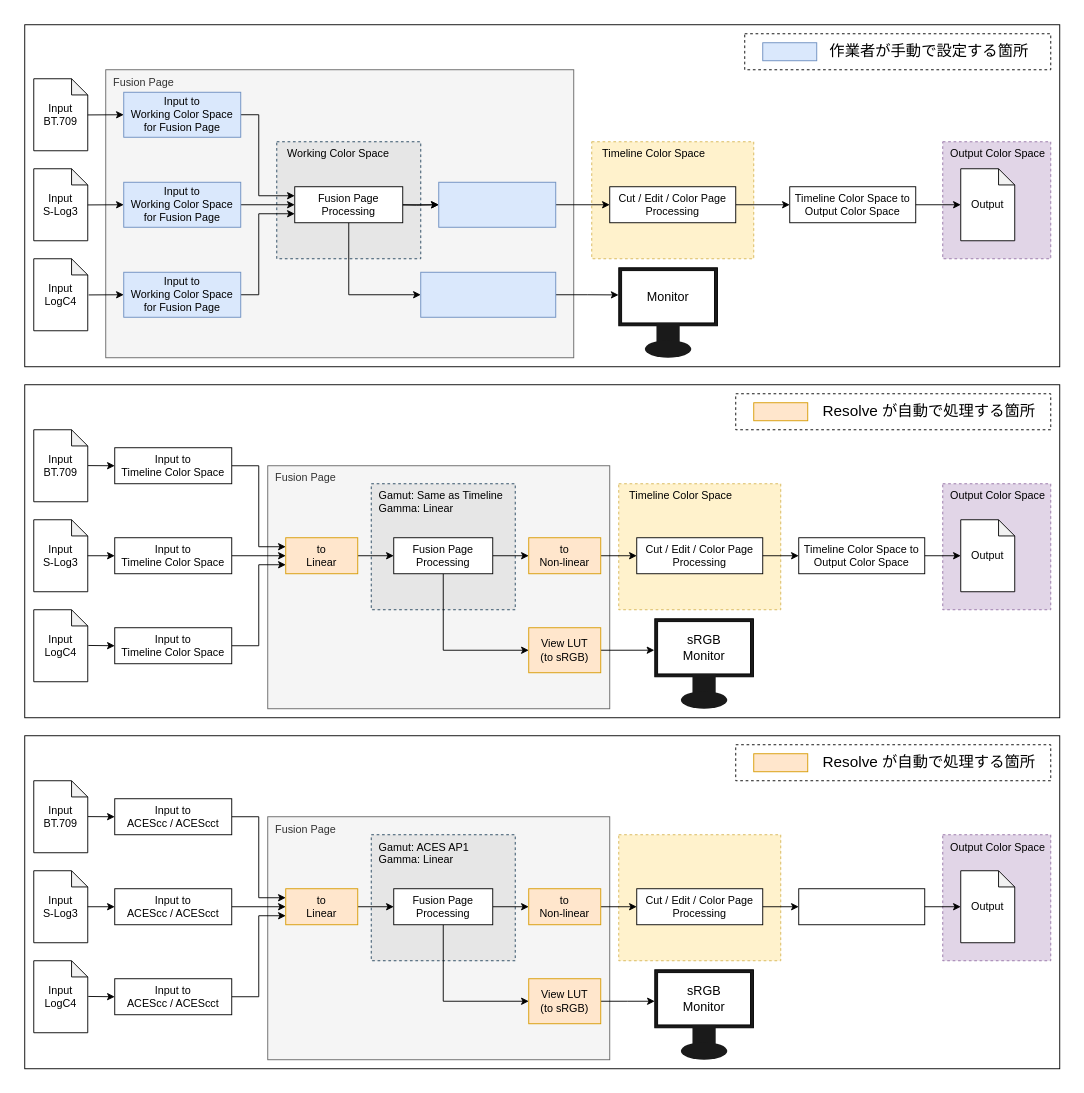
Some shapes in this 1084 by 1093 pixel diagram are drawn without their labels. The shapes that lost their labels are listed below. From the top down, each one's box as (x1, y1, x2, y2) in pixels, then its label:
(438, 181, 556, 227): Working Color Space to Timeline Color Space
(24, 24, 1060, 367): Color Science: DaVinci YRGB
(420, 271, 556, 317): View LUT (to Display Color Space)
(24, 384, 1060, 718): Color Science: DaVinci YRGB Color Managed
(24, 735, 1060, 1069): Color Science: ACEScc / ACEScct
(618, 834, 781, 961): ACEScc / ACEScct
(798, 888, 925, 925): ACEScc / ACEScct to Output Color Space
